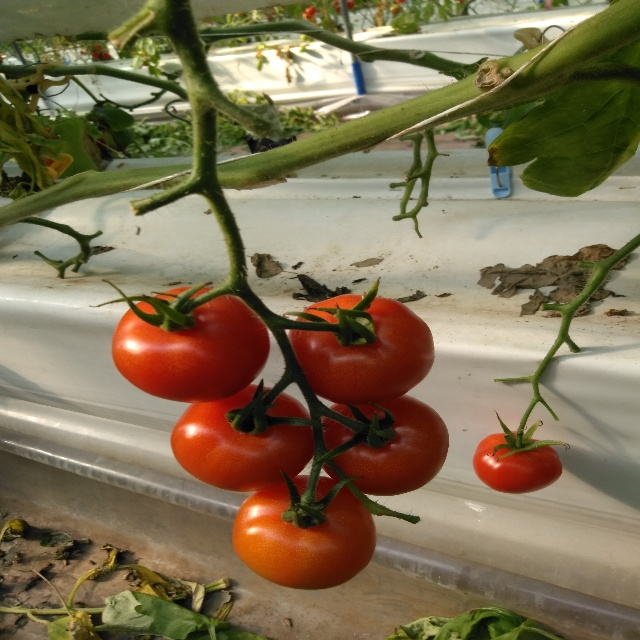l_fully_ripened: (111, 286, 270, 404), (287, 294, 436, 406), (233, 474, 376, 590), (170, 384, 317, 493), (316, 395, 449, 497), (472, 432, 563, 494)
